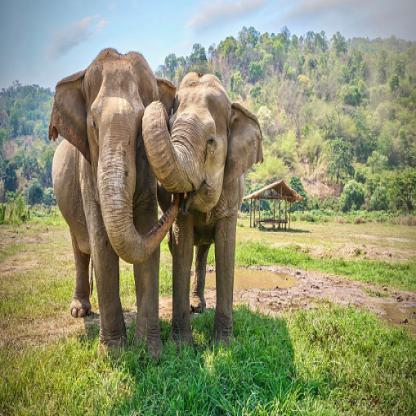Elephas-maximus: (47, 43, 176, 371), (141, 70, 264, 360)
